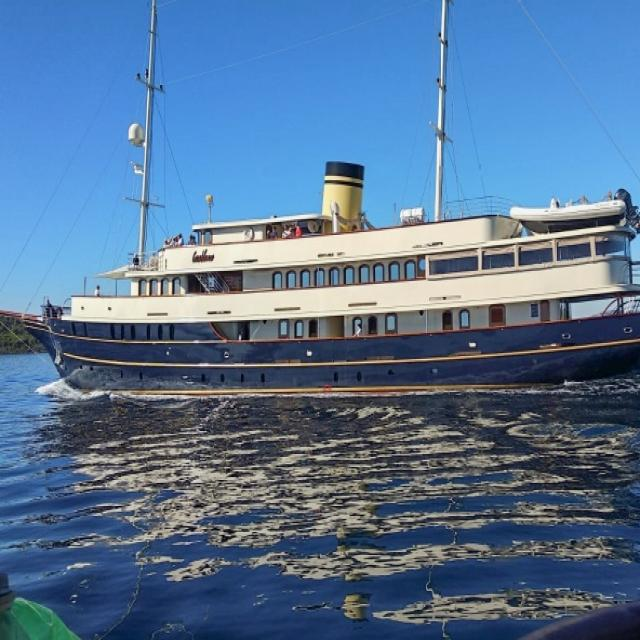cruises: (20, 148, 640, 403)
